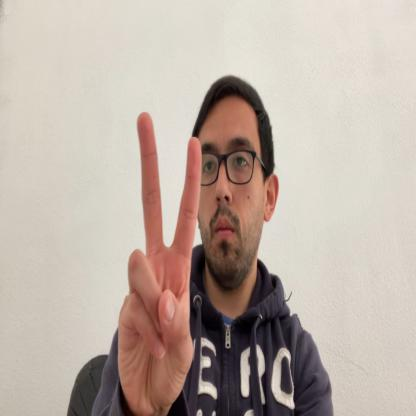V: (119, 112, 203, 415)
